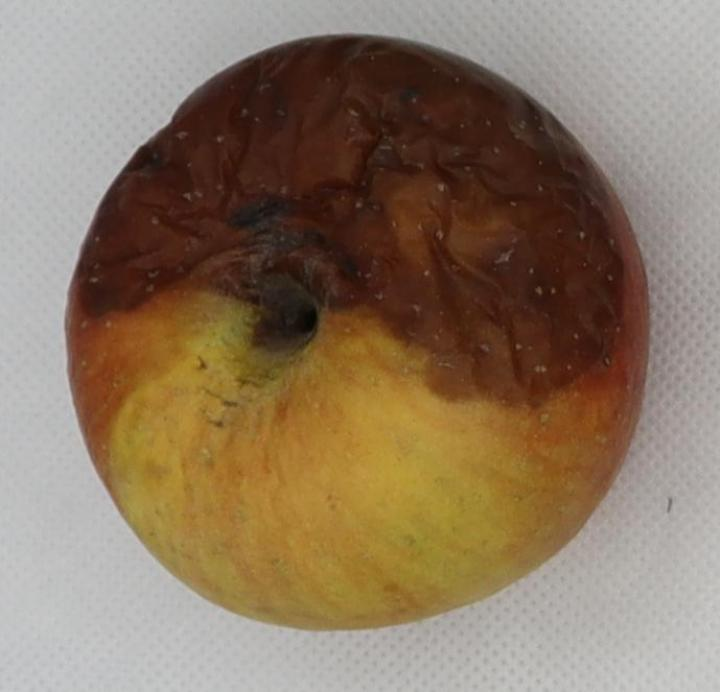apple: (67, 36, 648, 629)
rot_mold_decay: (68, 36, 646, 405)
surface_damage: (203, 388, 238, 405), (204, 411, 224, 426), (198, 355, 207, 369)
